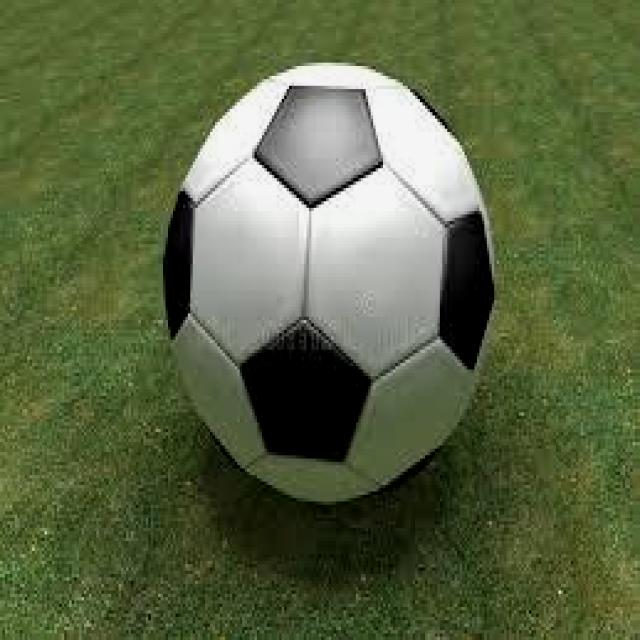Soccer Ball: (166, 62, 497, 502)
